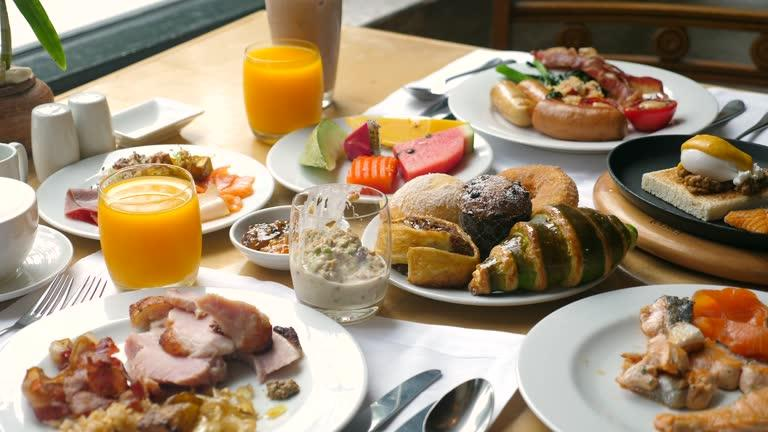Braised Crucian Carp: (2, 282, 360, 432), (515, 280, 763, 431), (377, 160, 626, 307), (450, 47, 715, 154), (605, 134, 766, 254), (267, 117, 472, 198)
